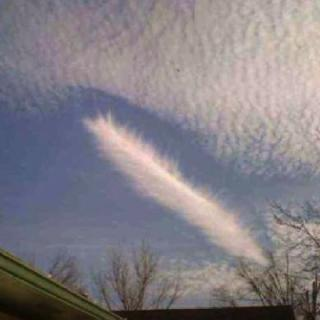Cirrus: (0, 0, 320, 258)
